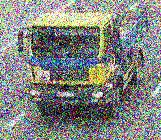truck: (18, 9, 147, 117)
